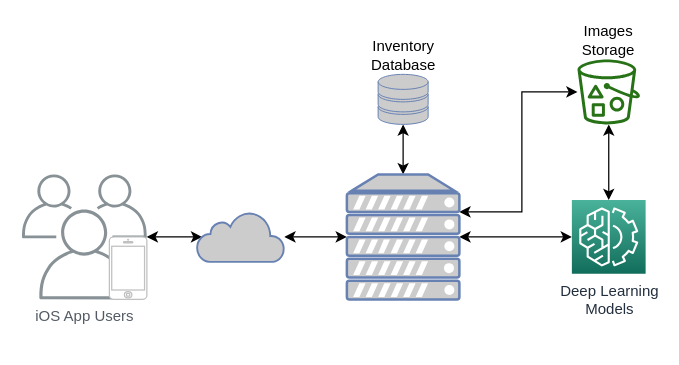
Image size: 679x365. Some labels were removed from this diagram. Here are the shapes that lost their labels. From the top down, the box of each, then its label:
(195, 210, 285, 262): Internet
(345, 172, 460, 300): Backend Services
